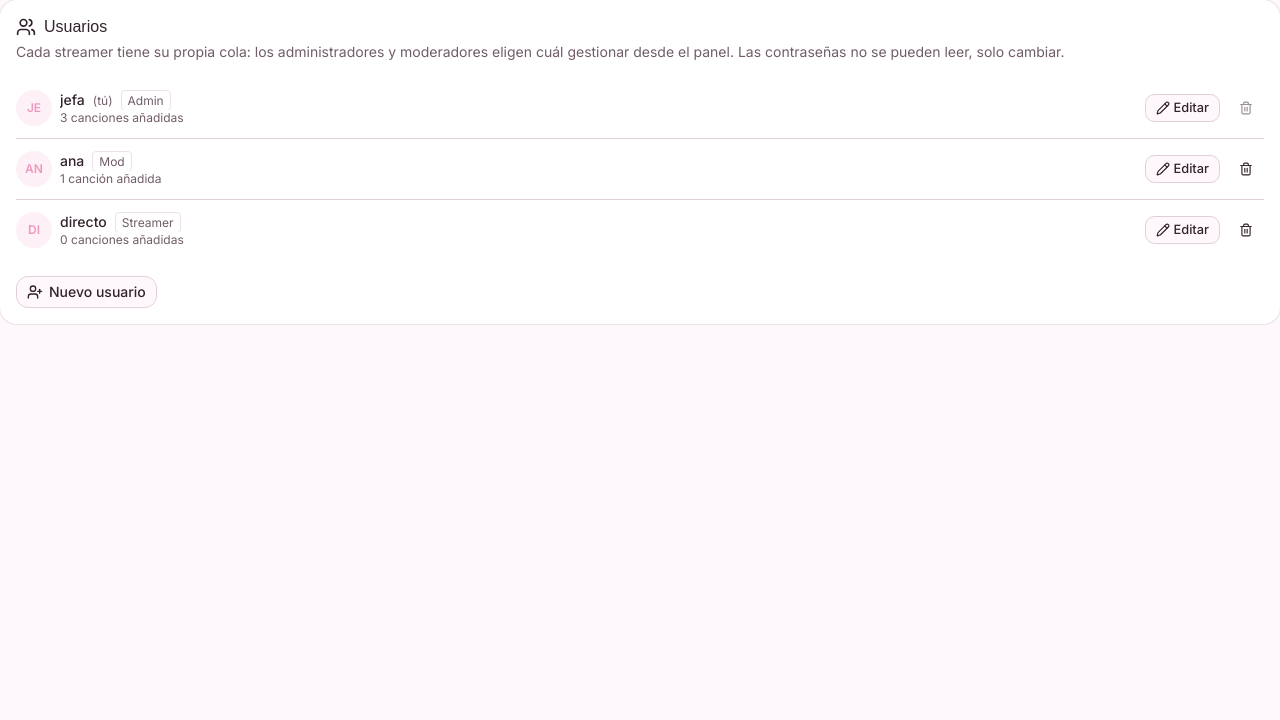
Scenario: gestión de usuarios › los campos de contraseña van ocultos y vacíos
This screenshot has width=1280, height=720.
Expected: the text "jefa" is shown, [60,91,85,108]
Click the button "Editar" in the row of "ana".
click(1182, 169)  # box [1144,155,1220,183]
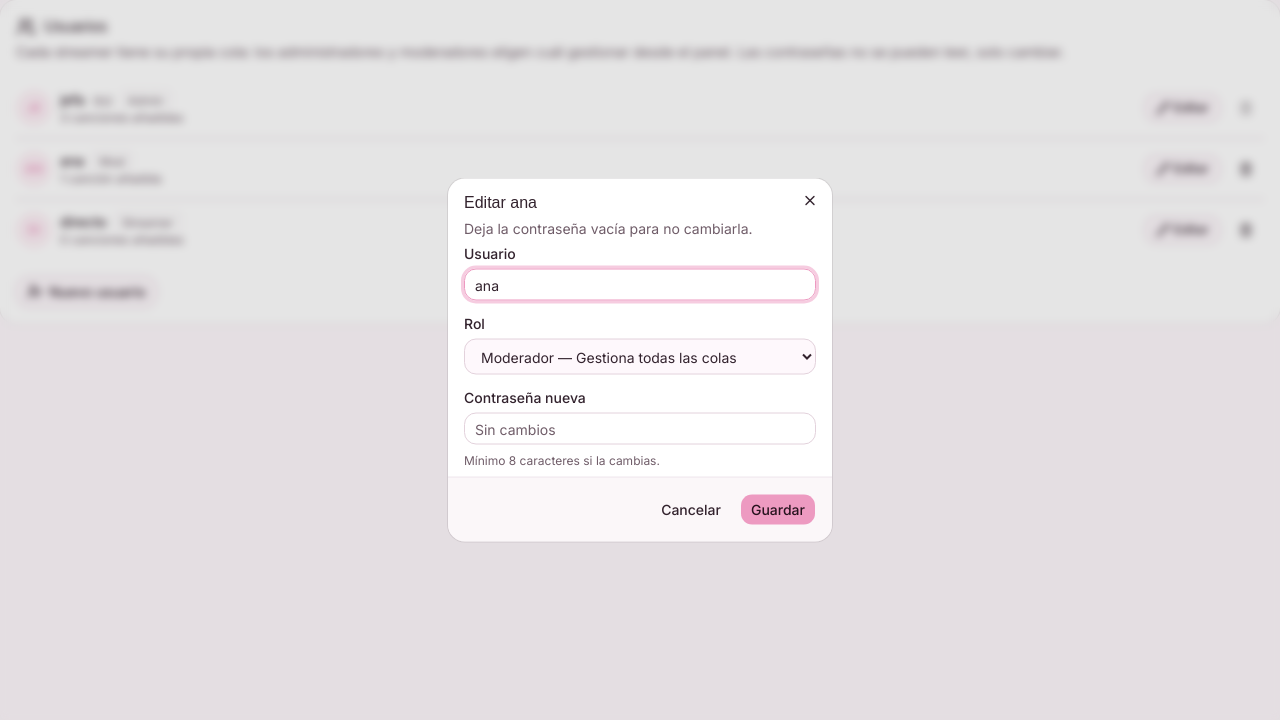
Result: the password field labelled "Contraseña nueva" is empty at [464,412,816,444]
Result: the field labelled "Usuario" holds "ana" at [464,268,816,300]
Result: the dropdown labelled "Rol" shows "Moderador — Gestiona todas las colas" at [464,338,816,374]
